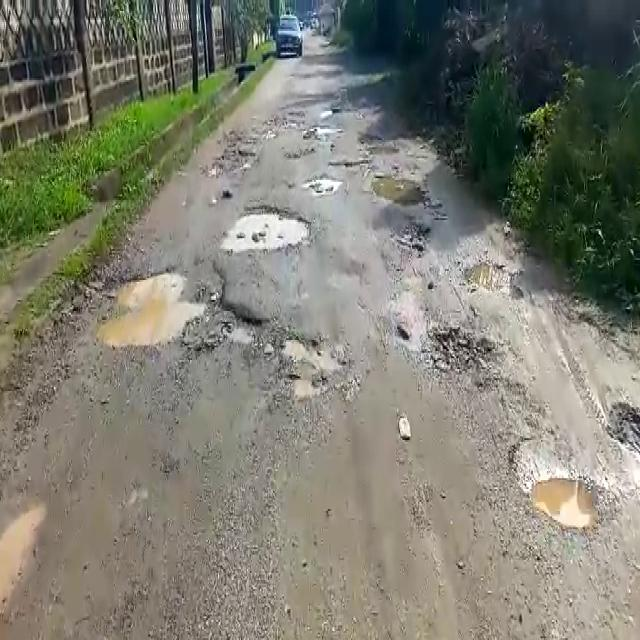Pothole: (88, 263, 224, 351), (523, 470, 604, 533), (219, 204, 314, 255), (0, 501, 45, 604), (281, 334, 347, 400), (427, 324, 497, 384), (372, 175, 444, 214), (602, 397, 639, 466), (466, 258, 523, 302), (304, 171, 347, 191), (327, 155, 374, 169)
